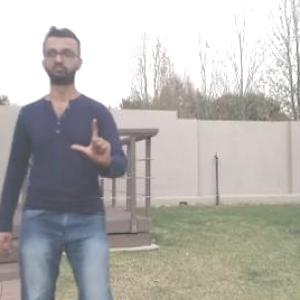land_hand: (64, 113, 117, 174)
